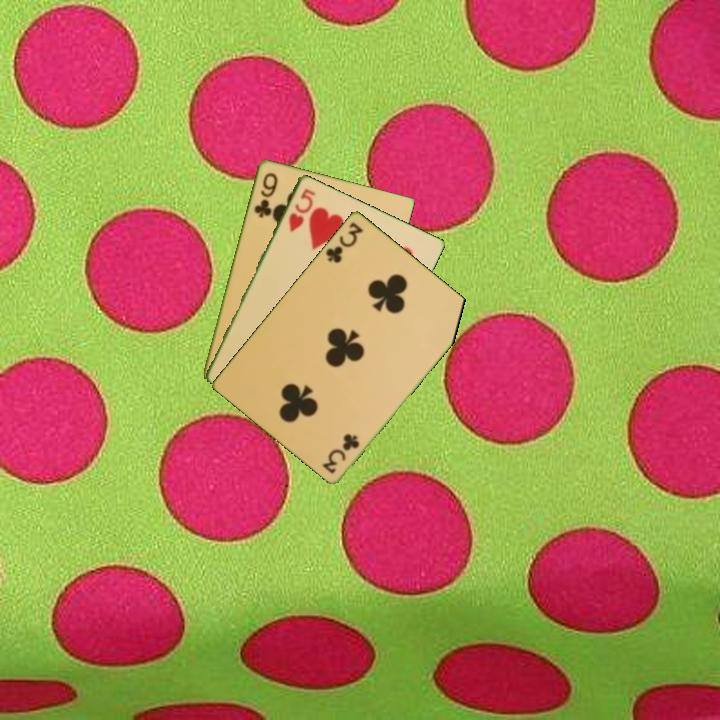3c: (322, 218, 366, 266), (319, 430, 362, 476)
5h: (285, 184, 318, 235)
9c: (250, 169, 280, 220)
